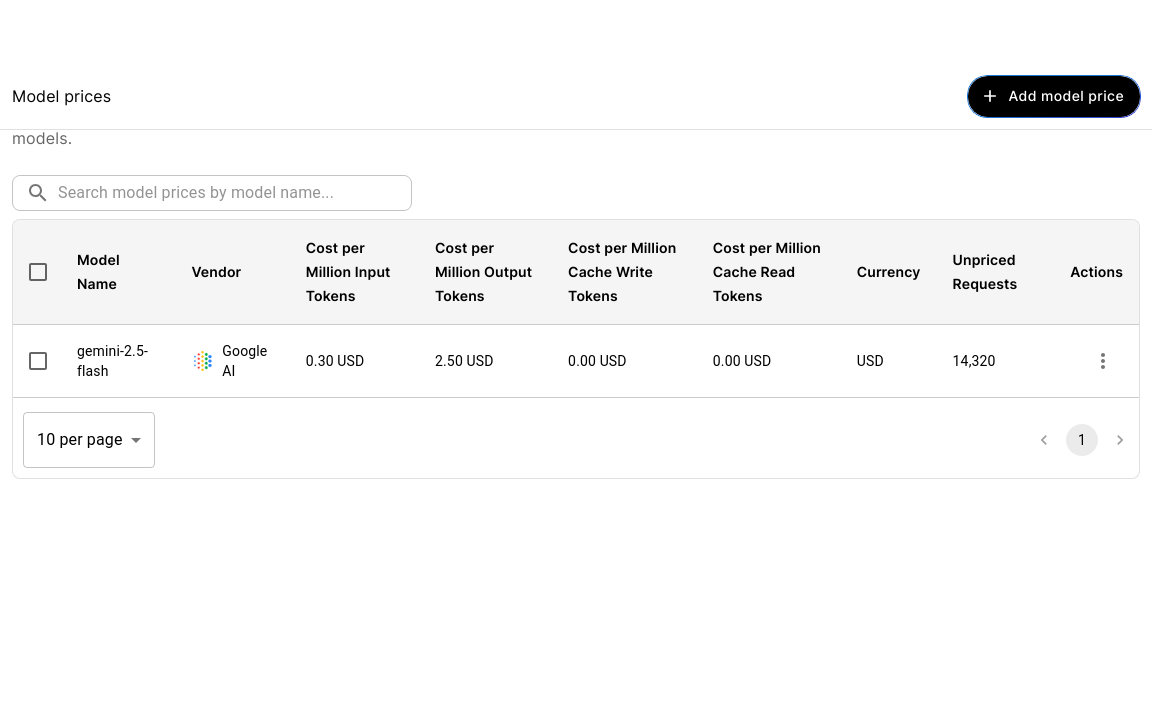
ModelPriceList backfill › shows each price's unpriced requests and backfills them over a date range
Expected: the text "14,320" is shown, [937,324,1054,397]
Click the button with test id "row-actions". click: (1103, 361)
box: [1083,341,1123,381]
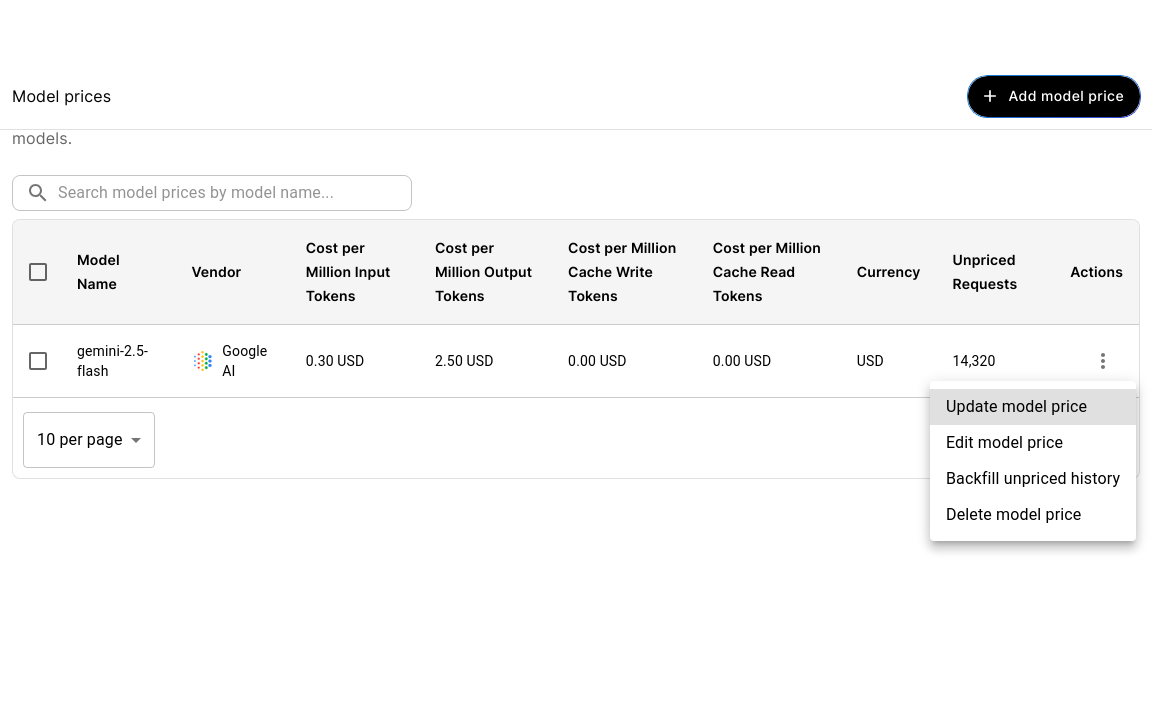
Click the menu item "Backfill unpriced history". click: (1033, 478)
box: [946,469,1120,488]
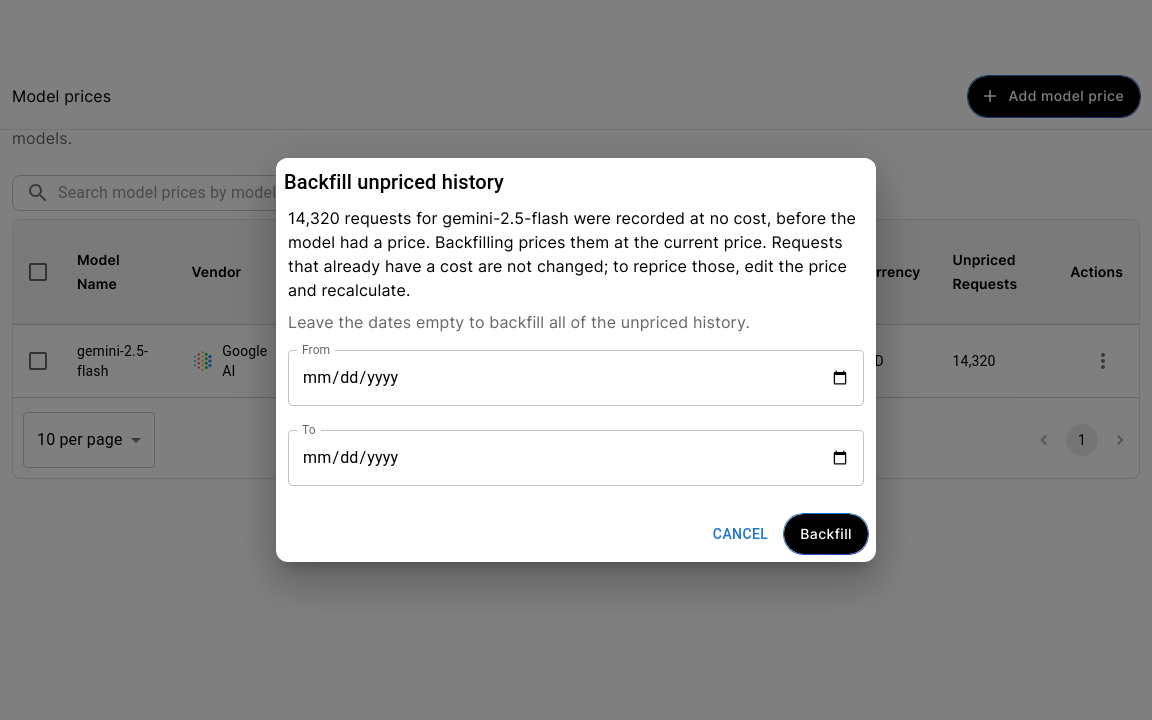
Expected: the dialog shows "were recorded at no cost", [288,208,856,300]
Type "2026-05-01" into the date field labelled "From". click: (576, 378)
box: [288,350,864,406]
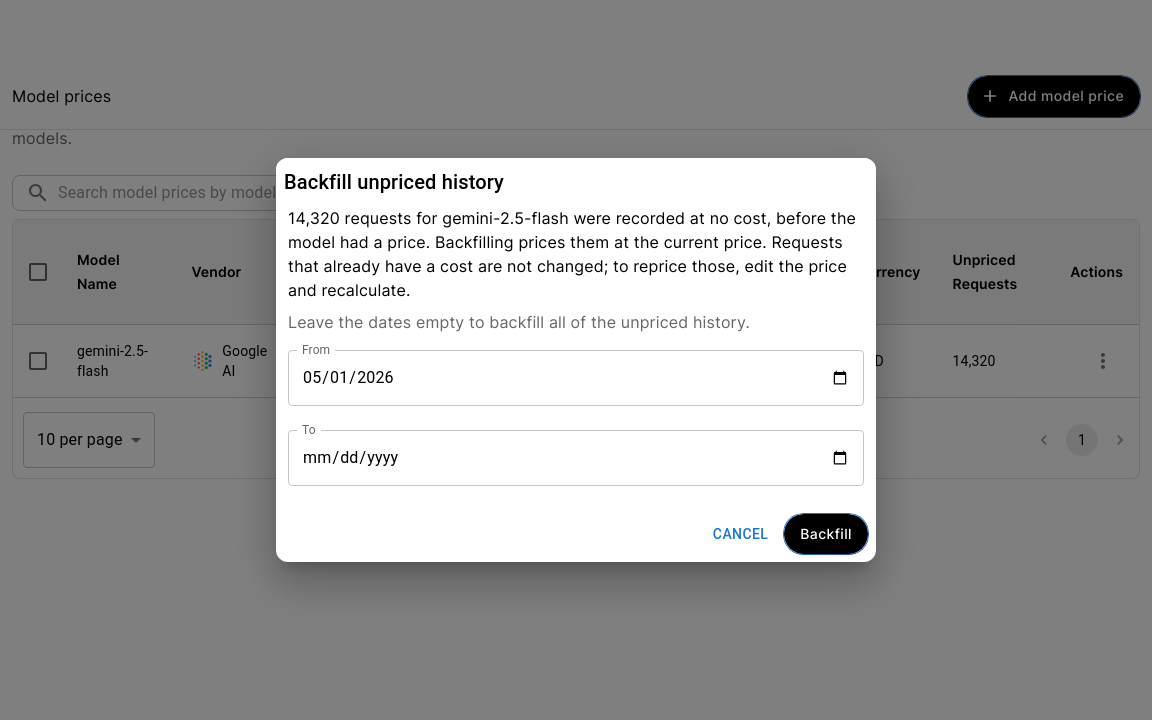
Click the button "Backfill". click: (826, 534)
box: [784,514,868,554]
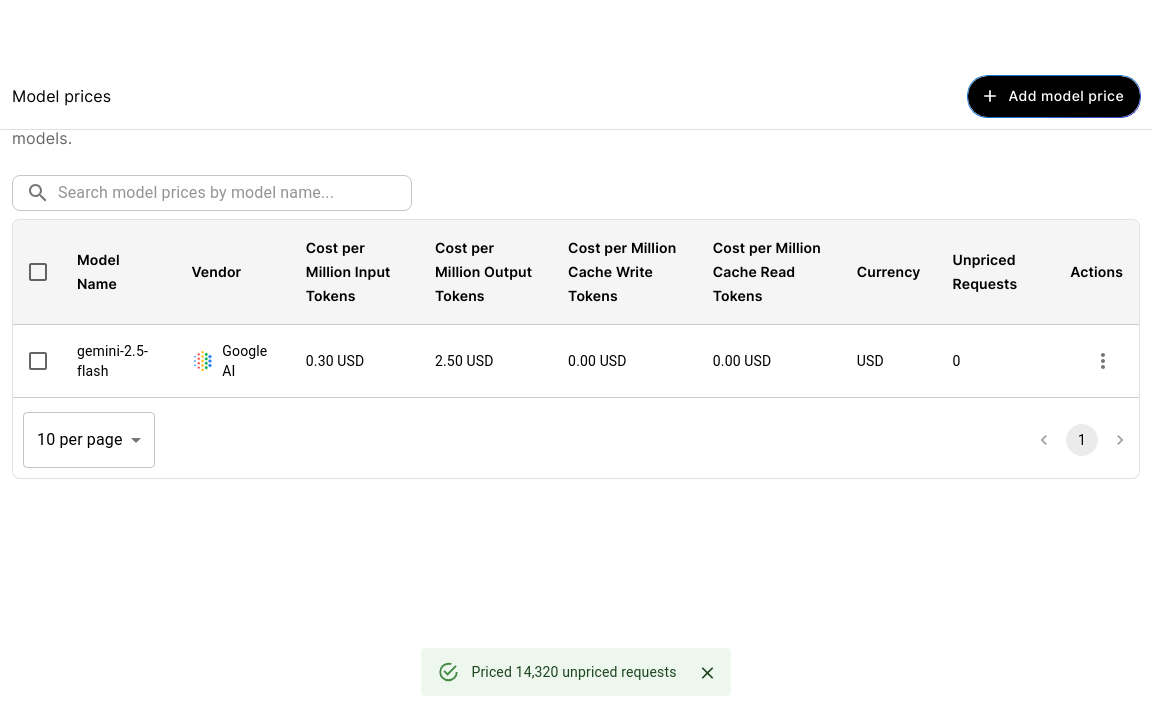
Expected: the text "Priced 14,320 unpriced requests" is shown, [472,664,677,680]
